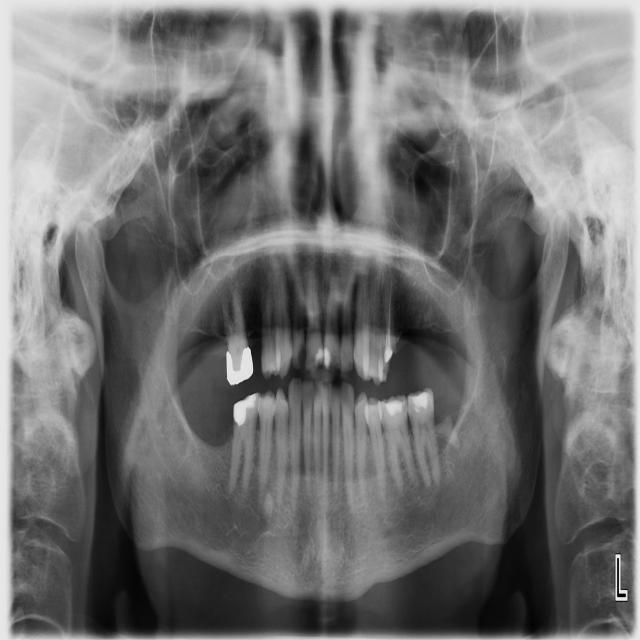mandibula: (72, 203, 571, 600)
